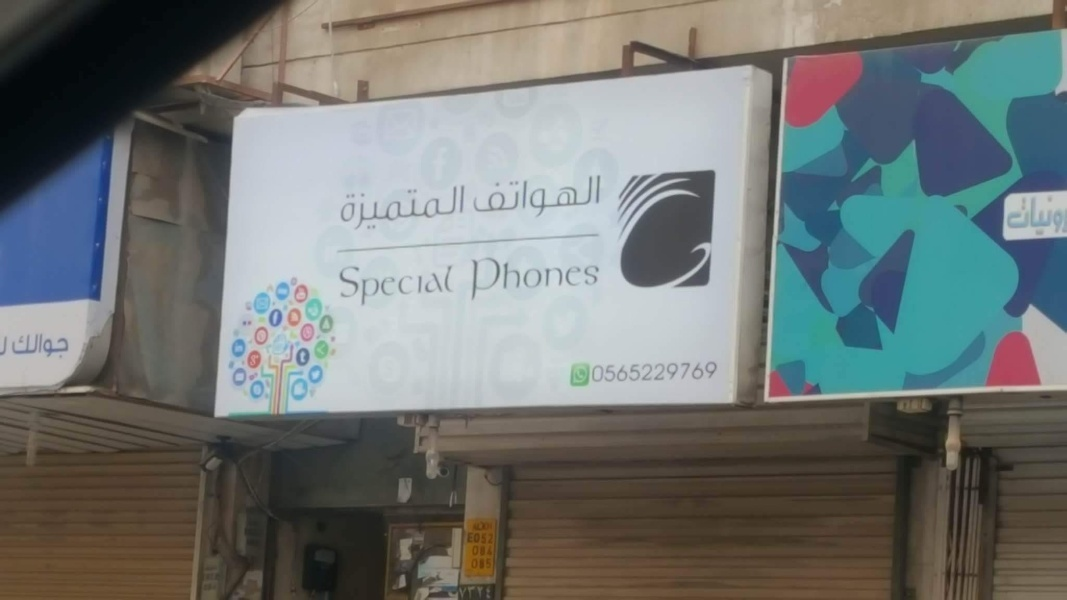text: (481, 174, 496, 224), (497, 174, 512, 224), (513, 174, 528, 224), (529, 174, 544, 224), (545, 174, 560, 224), (561, 174, 576, 224), (577, 174, 592, 224), (353, 182, 368, 232), (369, 182, 384, 232), (385, 182, 400, 232), (401, 182, 416, 232), (417, 182, 432, 232), (433, 182, 448, 232), (449, 182, 464, 232), (337, 263, 352, 310), (353, 263, 368, 310), (369, 263, 384, 310), (385, 263, 400, 310), (401, 263, 416, 310), (417, 263, 432, 310), (433, 263, 448, 310), (481, 258, 496, 303), (497, 258, 512, 303), (513, 258, 528, 303), (529, 258, 544, 303), (545, 258, 560, 303), (561, 258, 576, 303), (577, 258, 592, 303), (1009, 194, 1024, 237), (1025, 194, 1040, 237), (1041, 194, 1056, 237), (341, 182, 352, 232), (469, 258, 480, 303), (593, 174, 602, 224), (17, 332, 32, 359), (33, 332, 48, 359), (49, 332, 64, 359), (593, 258, 602, 303), (2, 333, 16, 360), (449, 263, 457, 310), (593, 360, 608, 384), (609, 360, 624, 384), (625, 360, 640, 384), (641, 360, 656, 384), (657, 360, 672, 384), (673, 360, 688, 384), (689, 360, 704, 384), (705, 360, 719, 384), (1057, 194, 1064, 237), (475, 174, 480, 224), (465, 586, 480, 600), (481, 586, 494, 600), (467, 532, 480, 545), (481, 532, 494, 545), (481, 545, 493, 557), (481, 521, 494, 532), (481, 558, 492, 570), (65, 332, 69, 359), (471, 558, 480, 570), (465, 182, 467, 232), (472, 545, 480, 557), (334, 263, 336, 310), (458, 586, 464, 600), (13, 332, 16, 359), (473, 521, 480, 532), (590, 360, 592, 384)
